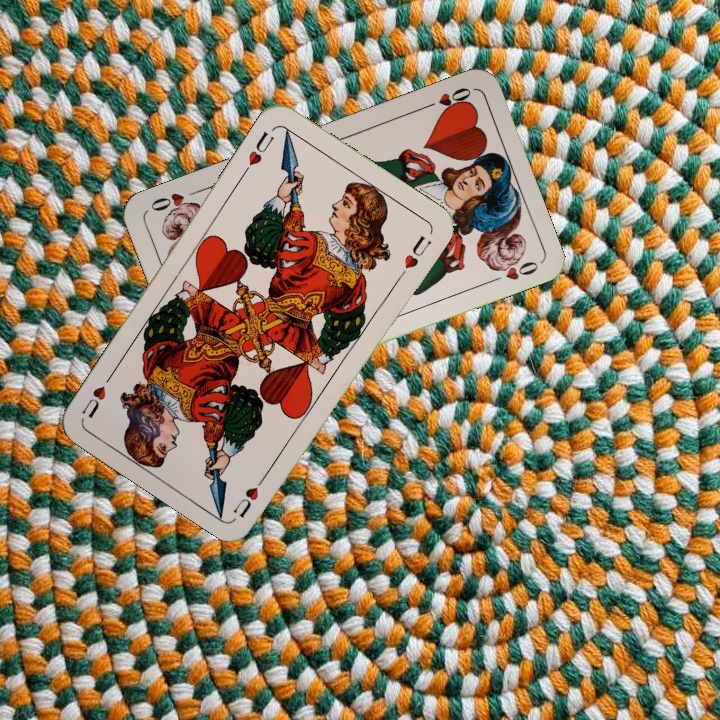HO: (418, 83, 474, 114)
HU: (229, 468, 271, 521), (239, 127, 277, 177)
